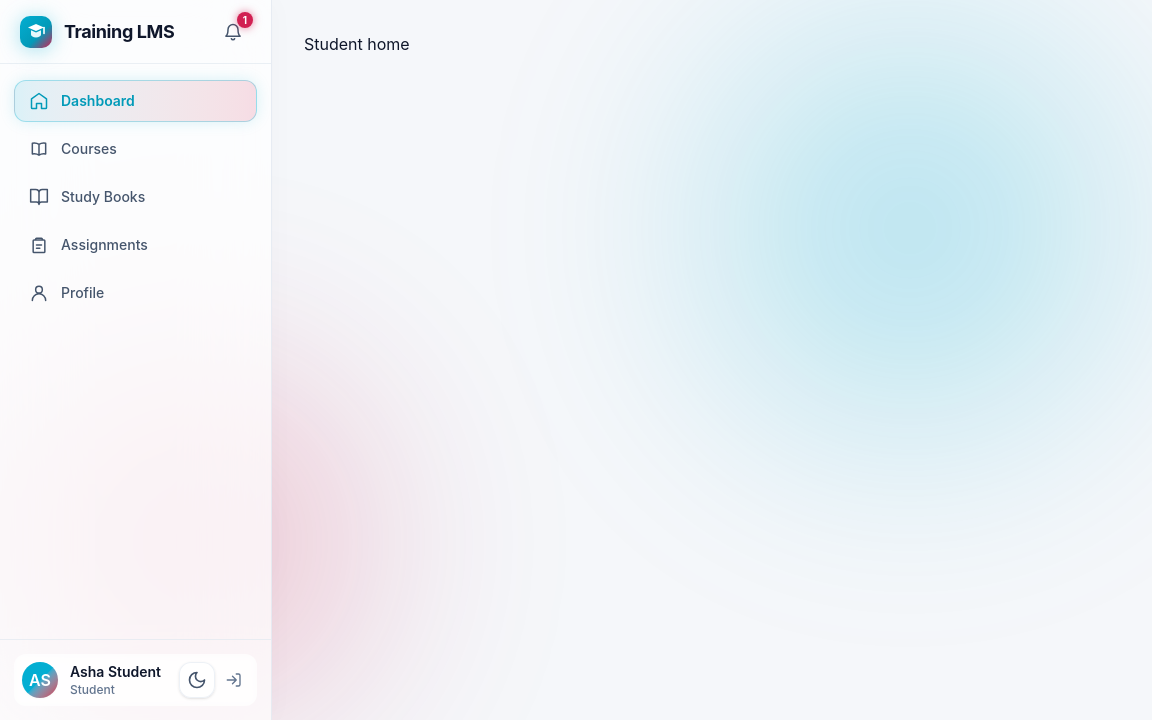
Test: notification bell › opening a notification marks it read and goes to what it is about
This screenshot has width=1152, height=720.
Click the button named "Notifications, 1 unread" at (233, 32), box [215, 14, 251, 50]
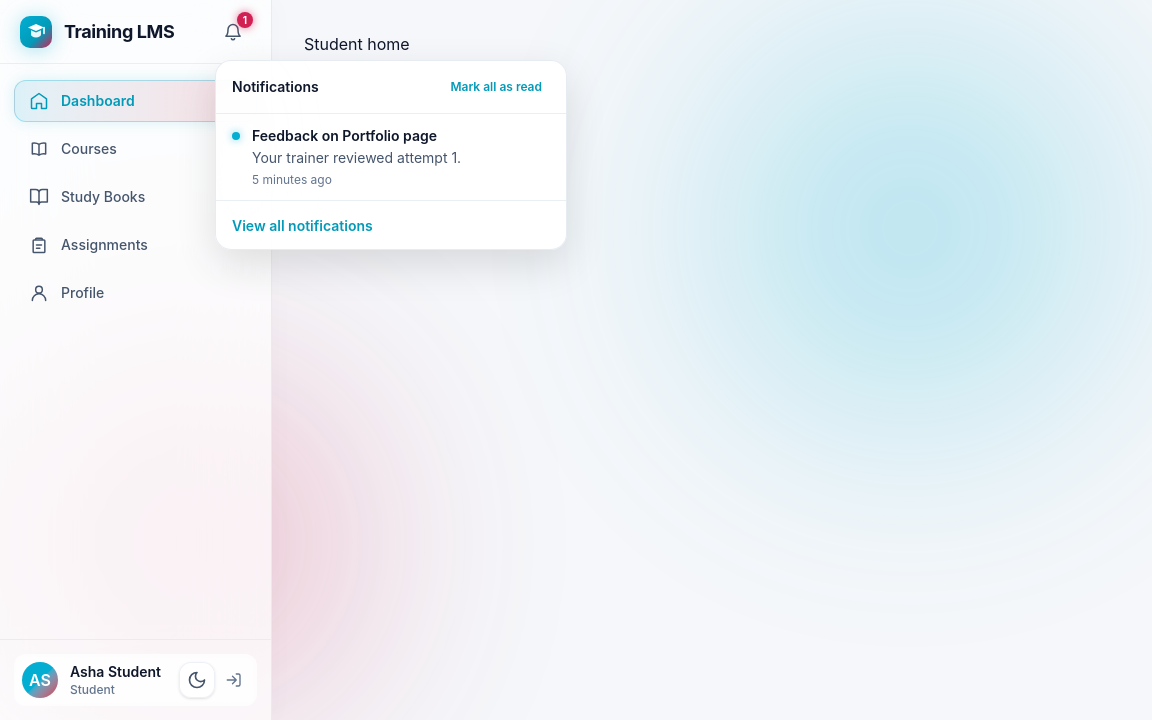
Click the link named "Feedback on Portfolio page (unread)" at (344, 135), box [252, 126, 437, 144]
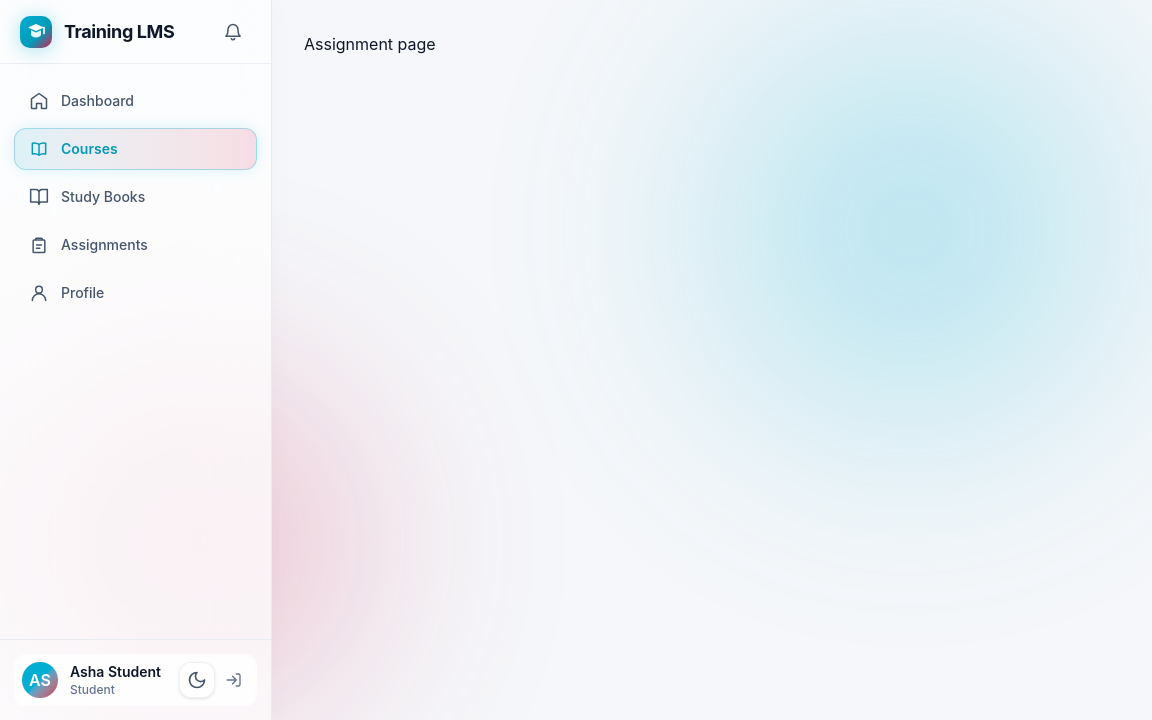
Check: the button named "Notifications" is shown, box [215, 14, 251, 50]
Check: the heading "Assignment page" is shown, box [304, 34, 436, 54]
Check: the heading "Notifications" is gone
